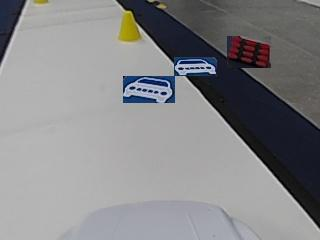cone: (118, 13, 141, 41)
